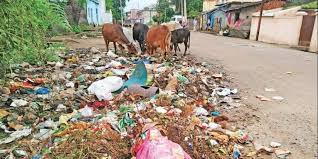garbage: (10, 64, 243, 159), (67, 53, 160, 159)
